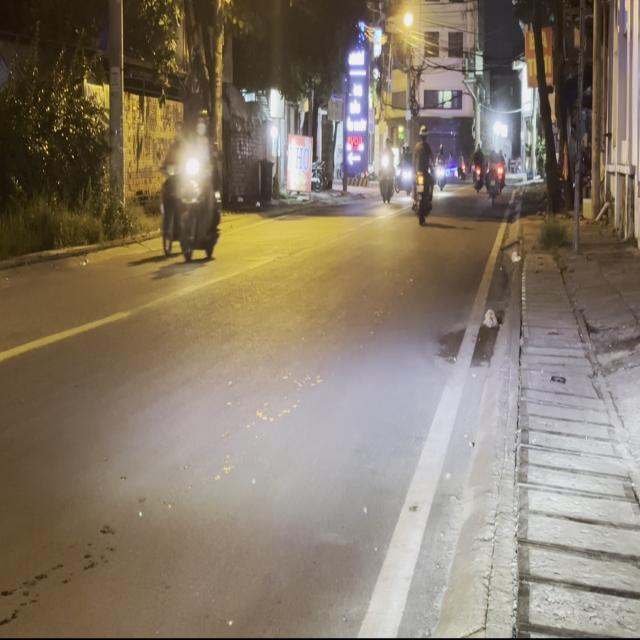helmet: (195, 107, 209, 135)
licenseplate: (172, 100, 222, 266)
